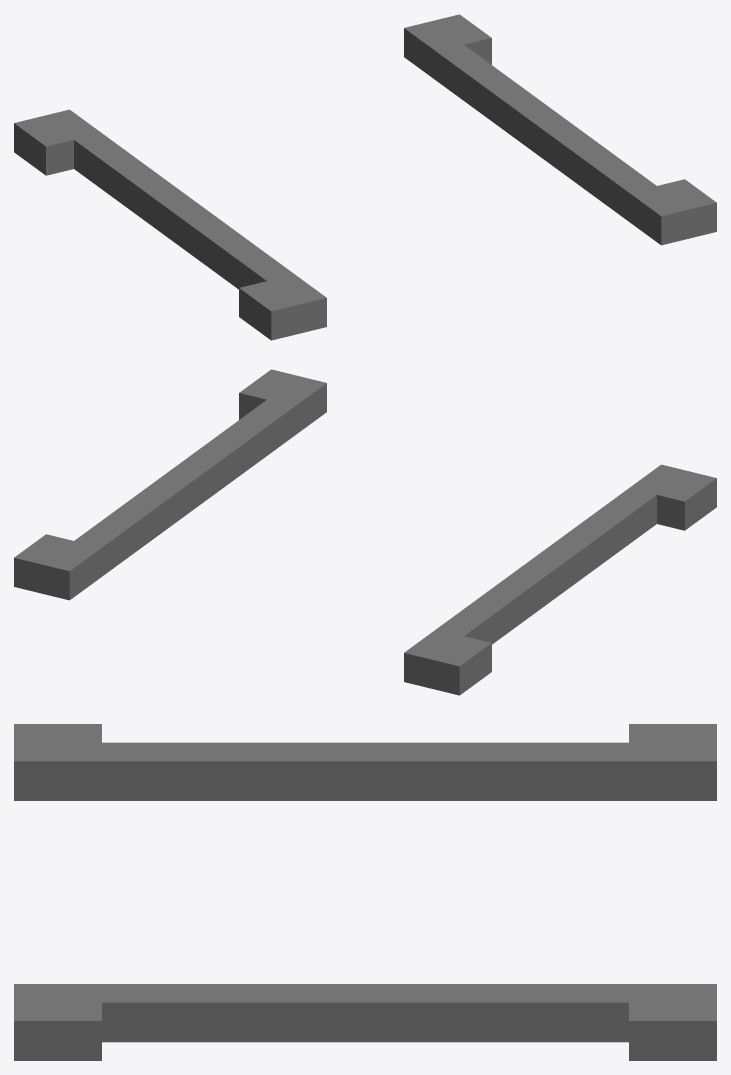
File: permanant conveyor.obj
3 renders of one model, top to bottom at view 1: azimuth 30°, elevation 25°; view 2: azimuth 150°, elevation 25°; view 3: azimuth 270°, elevation 25°, orthographic. The views are drawn at different scales.
Parts seen in each view (by area): view 1: permanant conveyor; view 2: permanant conveyor; view 3: permanant conveyor.
Boxes of the visible parts, x1,y1,x2,y2 form: permanant conveyor: [14, 14, 716, 340]; permanant conveyor: [14, 369, 716, 695]; permanant conveyor: [14, 724, 716, 1060].
Bounding box in the file's own units: 16 × 1 × 16.
1 material, 1 textured.
